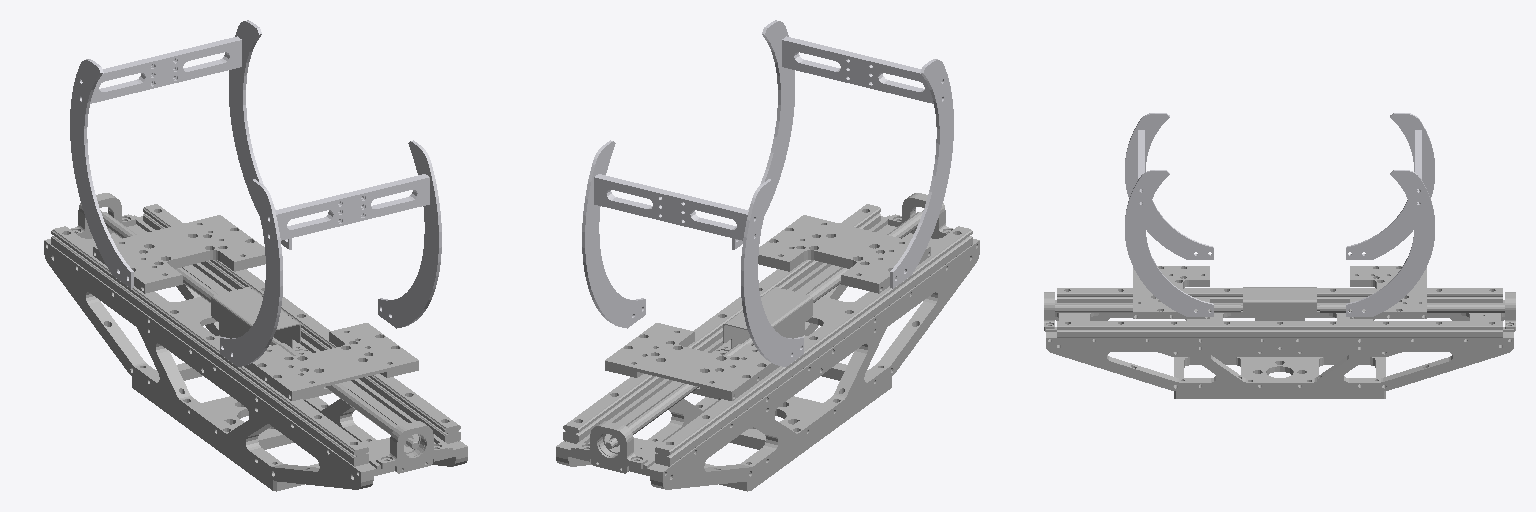
robot.urdf — bucket_gripper:
<?xml version="1.0" encoding="utf-8"?>
<!-- This URDF was automatically created by SolidWorks to URDF Exporter! Originally created by Stephen Brawner (brawner@gmail.com) 
     Commit Version: 1.6.0-4-g7f85cfe  Build Version: 1.6.7995.38578
     For more information, please see http://wiki.ros.org/sw_urdf_exporter -->
<robot
  name="bucket_gripper">
  <link
    name="base_link">
    <inertial>
      <origin
        xyz="-2.3651E-06 -4.3839E-06 0.063528"
        rpy="0 0 0" />
      <mass
        value="3.8087" />
      <inertia
        ixx="0.070068"
        ixy="1.0646E-07"
        ixz="4.2826E-09"
        iyy="0.0016823"
        iyz="-2.5893E-08"
        izz="0.07095" />
    </inertial>
    <visual>
      <origin
        xyz="0 0 0"
        rpy="0 0 0" />
      <geometry>
        <mesh
          filename="package://bucket_gripper/meshes/base_link.STL" />
      </geometry>
      <material
        name="">
        <color
          rgba="0.75294 0.75294 0.75294 1" />
      </material>
    </visual>
    <collision>
      <origin
        xyz="0 0 0"
        rpy="0 0 0" />
      <geometry>
        <mesh
          filename="package://bucket_gripper/meshes/base_link.STL" />
      </geometry>
    </collision>
  </link>
  <link
    name="bucket_link">
    <inertial>
      <origin
        xyz="8.4412E-15 2.092E-06 -0.05627"
        rpy="0 0 0" />
      <mass
        value="1.124" />
      <inertia
        ixx="0.0019399"
        ixy="4.5E-20"
        ixz="-6.715E-21"
        iyy="0.0022422"
        iyz="-5.15E-19"
        izz="0.001098" />
    </inertial>
    <visual>
      <origin
        xyz="0 0 0"
        rpy="0 0 0" />
      <geometry>
        <mesh
          filename="package://bucket_gripper/meshes/bucket_link.STL" />
      </geometry>
      <material
        name="">
        <color
          rgba="0.86667 0.86667 0.8902 1" />
      </material>
    </visual>
    <collision>
      <origin
        xyz="0 0 0"
        rpy="0 0 0" />
      <geometry>
        <mesh
          filename="package://bucket_gripper/meshes/bucket_link.STL" />
      </geometry>
    </collision>
  </link>
  <joint
    name="bucket_joint"
    type="fixed">
    <origin
      xyz="0 0 0.22243"
      rpy="0 0 0" />
    <parent
      link="base_link" />
    <child
      link="bucket_link" />
    <axis
      xyz="0 0 0" />
  </joint>
  <link
    name="adapter_link">
    <inertial>
      <origin
        xyz="-2.7992E-15 8.193E-16 -0.0044409"
        rpy="0 0 0" />
      <mass
        value="0.40686" />
      <inertia
        ixx="0.00022117"
        ixy="8.1944E-07"
        ixz="1.4492E-20"
        iyy="0.00060509"
        iyz="1.1647E-21"
        izz="0.00082067" />
    </inertial>
    <visual>
      <origin
        xyz="0 0 0"
        rpy="0 0 0" />
      <geometry>
        <mesh
          filename="package://bucket_gripper/meshes/adapter_link.STL" />
      </geometry>
      <material
        name="">
        <color
          rgba="0.75294 0.75294 0.75294 1" />
      </material>
    </visual>
    <collision>
      <origin
        xyz="0 0 0"
        rpy="0 0 0" />
      <geometry>
        <mesh
          filename="package://bucket_gripper/meshes/adapter_link.STL" />
      </geometry>
    </collision>
  </link>
  <joint
    name="adapter_joint"
    type="fixed">
    <origin
      xyz="0 0 0.1105"
      rpy="0 0 0" />
    <parent
      link="base_link" />
    <child
      link="adapter_link" />
    <axis
      xyz="0 0 0" />
  </joint>
  <link
    name="camera_link">
    <inertial>
      <origin
        xyz="0 0 0"
        rpy="0 0 0" />
      <mass
        value="0" />
      <inertia
        ixx="0"
        ixy="0"
        ixz="0"
        iyy="0"
        iyz="0"
        izz="0" />
    </inertial>
    <visual>
      <origin
        xyz="0 0 0"
        rpy="0 0 0" />
      <geometry>
        <mesh
          filename="package://bucket_gripper/meshes/camera_link.STL" />
      </geometry>
      <material
        name="">
        <color
          rgba="1 1 1 1" />
      </material>
    </visual>
    <collision>
      <origin
        xyz="0 0 0"
        rpy="0 0 0" />
      <geometry>
        <mesh
          filename="package://bucket_gripper/meshes/camera_link.STL" />
      </geometry>
    </collision>
  </link>
  <joint
    name="camera_joint"
    type="fixed">
    <origin
      xyz="0.1845 0.0015 0.11707"
      rpy="0 0 0.0" />
    <parent
      link="base_link" />
    <child
      link="camera_link" />
    <axis
      xyz="0 0 0" />
  </joint>
</robot>

--- What the picture shows (computed from the rendered views, not written in the file) ---
Views: 3 orthographic renders of the robot side by side, from view 1: azimuth 30°, elevation 25°; view 2: azimuth 150°, elevation 25°; view 3: azimuth 270°, elevation 25°.
Model bucket_gripper with 4 links and 3 joints (3 fixed), rooted at base_link, posed all joints at 0.
Visible links, largest first — view 1: base_link, bucket_link, adapter_link; view 2: base_link, bucket_link, adapter_link; view 3: base_link, bucket_link, adapter_link.
Link boxes in pixels (left/top/right/bottom): base_link: left=44, top=193, right=467, bottom=491; bucket_link: left=70, top=20, right=441, bottom=366; adapter_link: left=93, top=215, right=418, bottom=400; base_link: left=556, top=193, right=979, bottom=491; bucket_link: left=582, top=20, right=953, bottom=366; adapter_link: left=605, top=215, right=930, bottom=400; base_link: left=1044, top=287, right=1515, bottom=398; bucket_link: left=1125, top=113, right=1434, bottom=316; adapter_link: left=1133, top=266, right=1426, bottom=318.
Size in the robot's own frame: 0.156 by 0.5325 by 0.2973 metres.
3 mesh visuals loaded from 4 distinct referenced files (3 binary STL); not drawn: 1 (reference not matched to a file when rendering).
